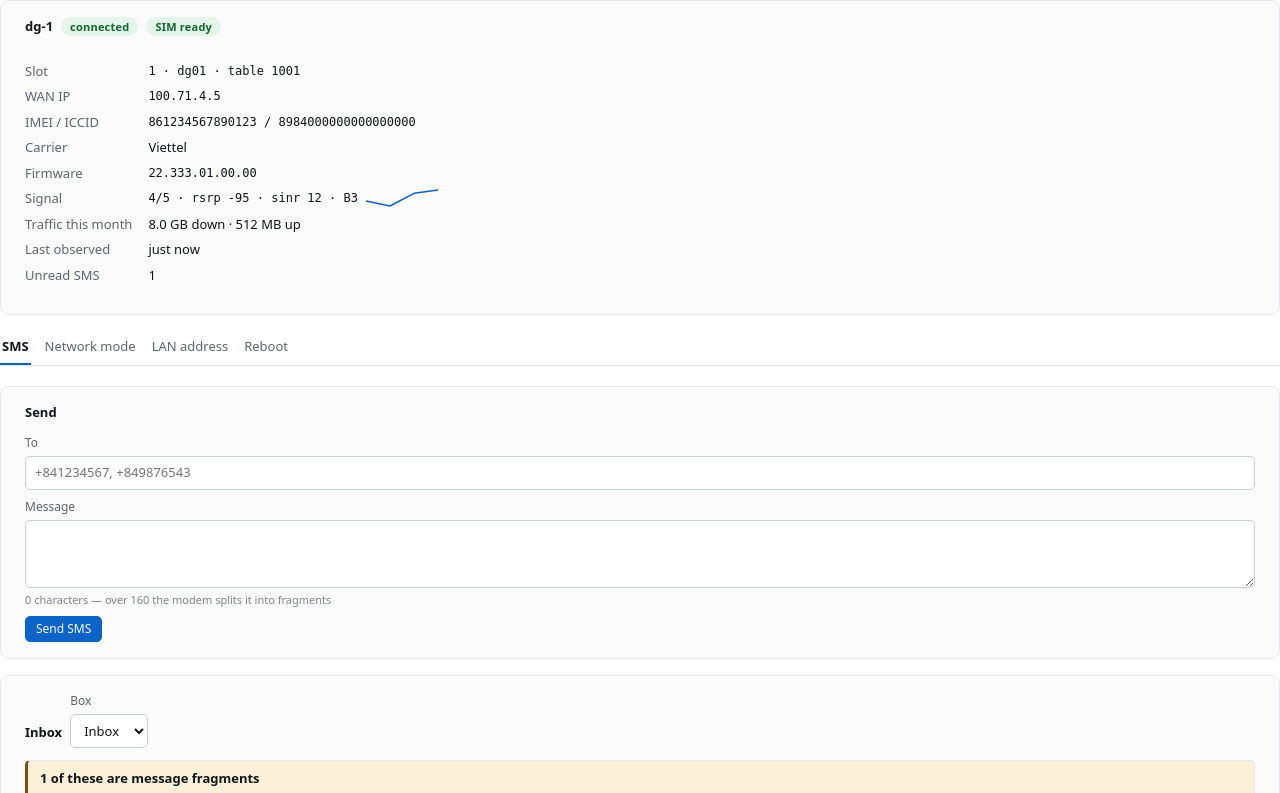
it: reboot › asks for confirmation with the disconnect warning
Check: the tab "SMS" is shown, box [0,331,31,364]
Click the tab "Reboot".
click(266, 348)  # box [242,331,290,364]
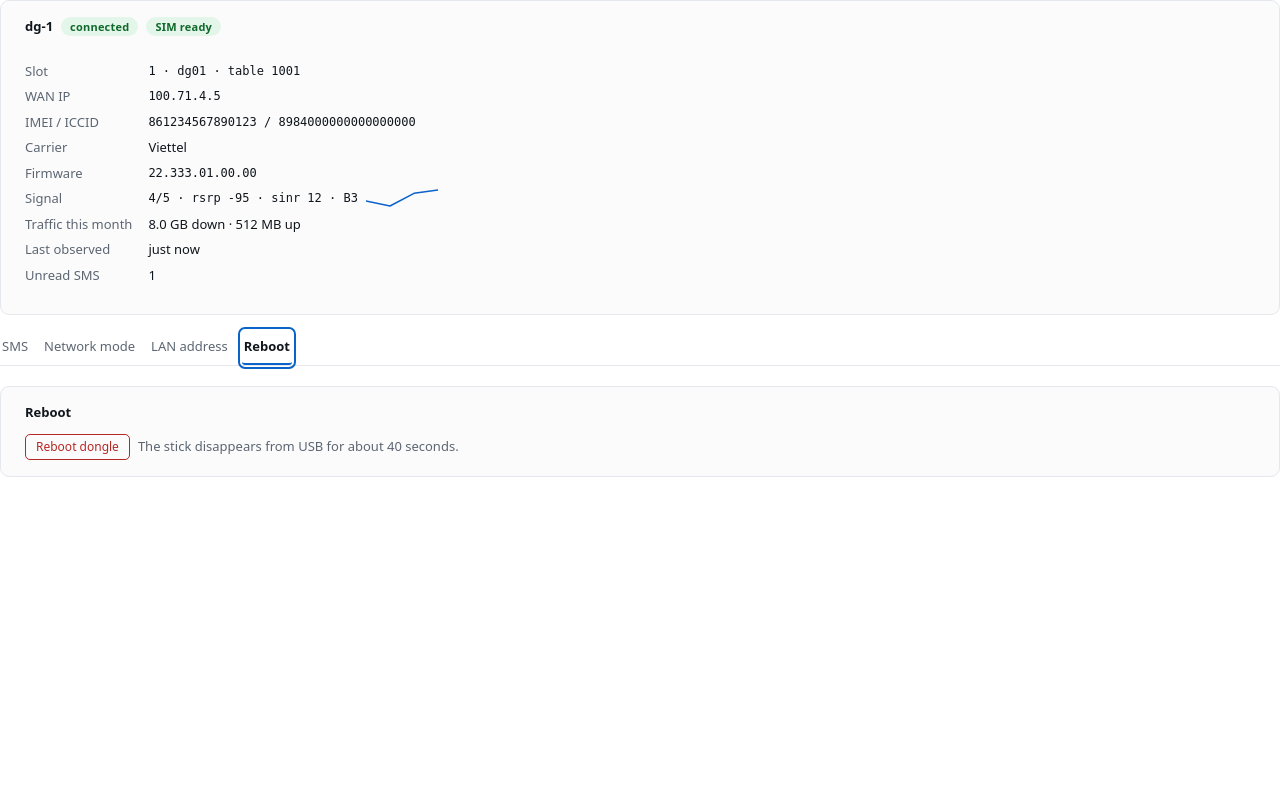
Click the button "Reboot dongle".
click(77, 447)  # box [25,434,130,460]
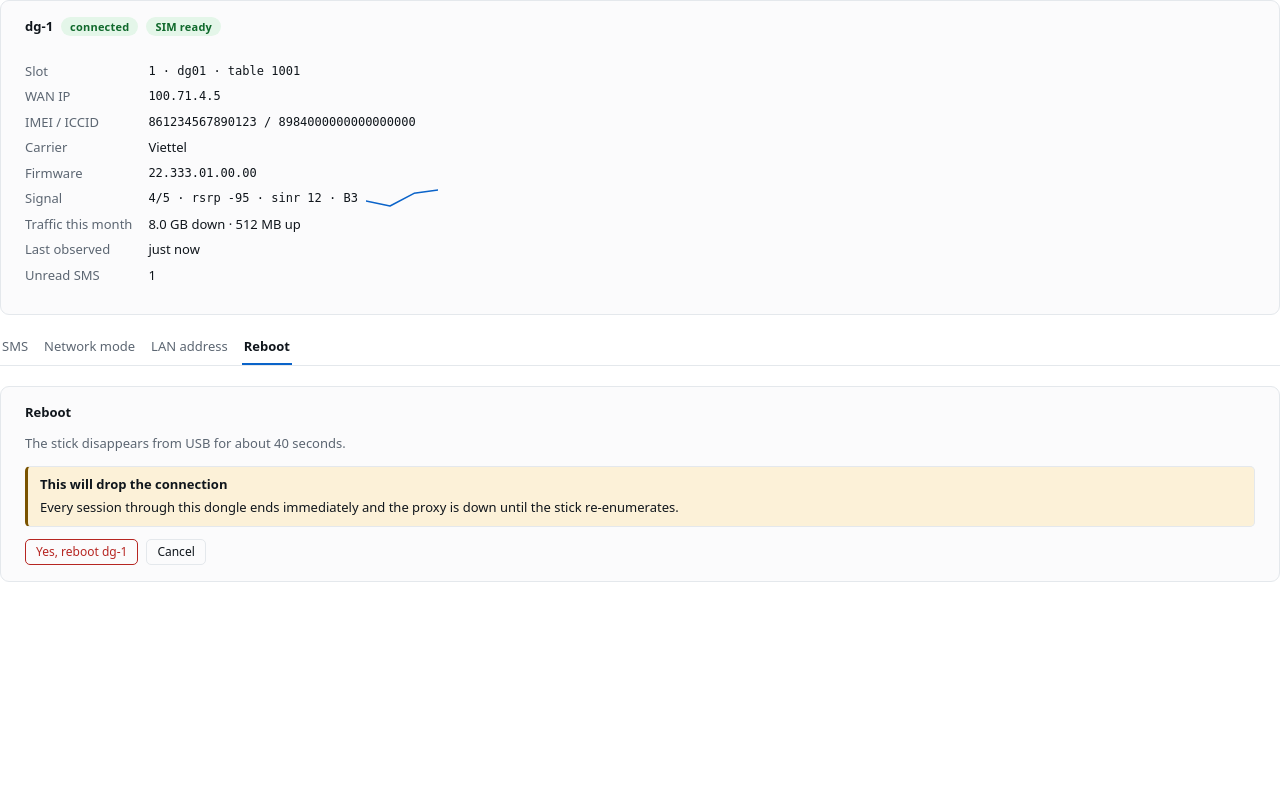
Check: the text "This will drop the connection" is shown, box [40,474,227,492]
